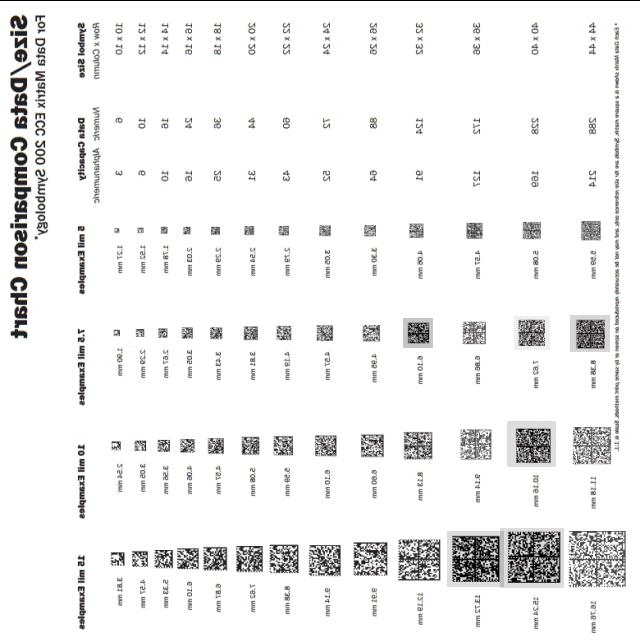DataMatrix: (565, 526, 629, 590), (500, 528, 564, 588), (447, 531, 504, 587), (392, 534, 444, 583), (566, 420, 614, 467), (507, 420, 556, 466), (455, 422, 498, 466), (397, 425, 438, 465), (570, 314, 610, 351), (457, 315, 492, 351), (514, 315, 550, 349), (403, 317, 433, 347)
